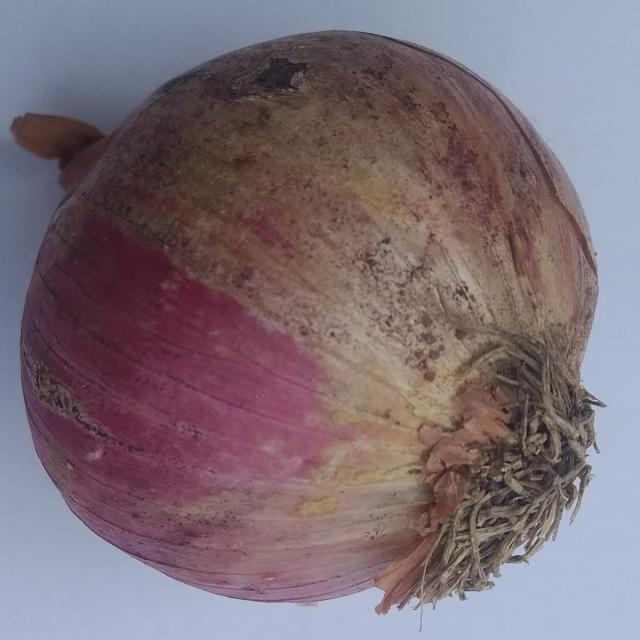onion: (10, 29, 605, 628)
